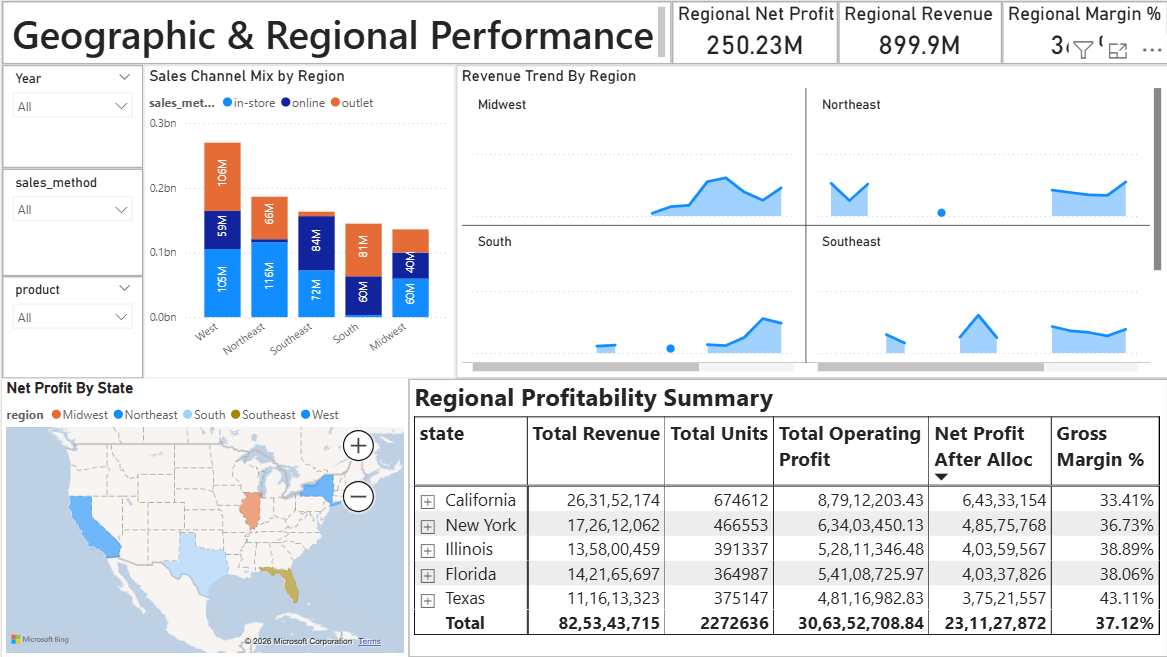

Layout of this report page (visuals, bound fields, positions):
{"tool":"powerbi","page":{"name":"Geographic Performance","canvas":[1280,720],"ordinal":5},"visuals":[{"type":"textbox","box":[0,0,735.5,70],"z":0},{"type":"card","title":"Regional Net Profit","fields":{"Values":["Table.Net Profit After Alloc"]},"box":[735.5,0,182.5,70],"z":1000},{"type":"card","title":"Regional Margin %","fields":{"Values":["Table.Gross Margin %"]},"box":[1097.8,0,182.5,70],"z":2000},{"type":"card","title":"Regional Revenue","fields":{"Values":["Table.Total Revenue"]},"box":[918,0,179.8,70],"z":3000},{"type":"lineChart","title":"Revenue Trend By Region","fields":{"Category":["Dim_Date.YearMonth"],"Y":["Table.Total Revenue"],"Rows":["Dim_Region.region"]},"box":[498.1,70,782.2,344.4],"z":4000},{"type":"slicer","fields":{"Values":["Dim_Date.Year"]},"box":[0,70,155.1,113.9],"z":5000},{"type":"pivotTable","title":"Regional Profitability Summary","fields":{"Rows":["Dim_Region.state","Dim_Region.region"],"Values":["Table.Total Revenue","Table.Total Units","Table.Total Operating Profit","Table.Net Profit After Alloc","Table.Gross Margin %"]},"box":[446,414.4,834.3,306],"z":9000},{"type":"columnChart","title":"Sales Channel Mix by Region","fields":{"Category":["Dim_Region.region"],"Y":["Table.Total Revenue"],"Series":["Fact_Sales.sales_method"]},"box":[155.1,70,343.1,344.4],"z":10000},{"type":"slicer","fields":{"Values":["Fact_Sales.sales_method"]},"box":[0,183.9,155.1,118],"z":11000},{"type":"slicer","fields":{"Values":["Fact_Sales.product"]},"box":[0,301.9,155.1,112.5],"z":12000},{"type":"filledMap","title":"Net Profit By State","fields":{"Category":["Dim_Region.state"],"Series":["Dim_Region.region"]},"box":[0,414.4,446,306],"z":13000}]}

Visuals, with their boxes in screenshot pixels (x1, y1, x2, y2), scaled from the page's 1280x720 canvas onto the 1167x657 screenshot:
textbox: rect(0, 0, 671, 64)
"Regional Net Profit" card: rect(671, 0, 837, 64)
"Regional Margin %" card: rect(1001, 0, 1166, 64)
"Regional Revenue" card: rect(837, 0, 1001, 64)
"Revenue Trend By Region" lineChart: rect(454, 64, 1166, 378)
slicer - Dim_Date.Year: rect(0, 64, 141, 168)
"Regional Profitability Summary" pivotTable: rect(407, 378, 1166, 656)
"Sales Channel Mix by Region" columnChart: rect(141, 64, 454, 378)
slicer - Fact_Sales.sales_method: rect(0, 168, 141, 275)
slicer - Fact_Sales.product: rect(0, 275, 141, 378)
"Net Profit By State" filledMap: rect(0, 378, 407, 656)
